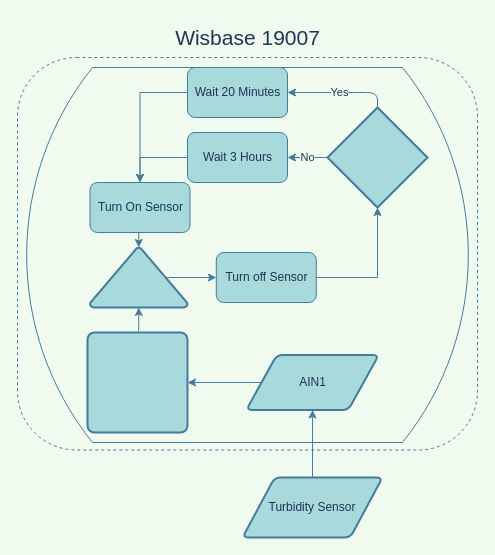
This 495x555 diagram has some shape labels left out. Here are the shapes that lost their labels. From the top down, the centre of each, then its label:
pixel 377 157: Is turbidity > 30 NTU
pixel 138 277: Take Measurement
pixel 137 382: Convert Analoge Signal to NTU
